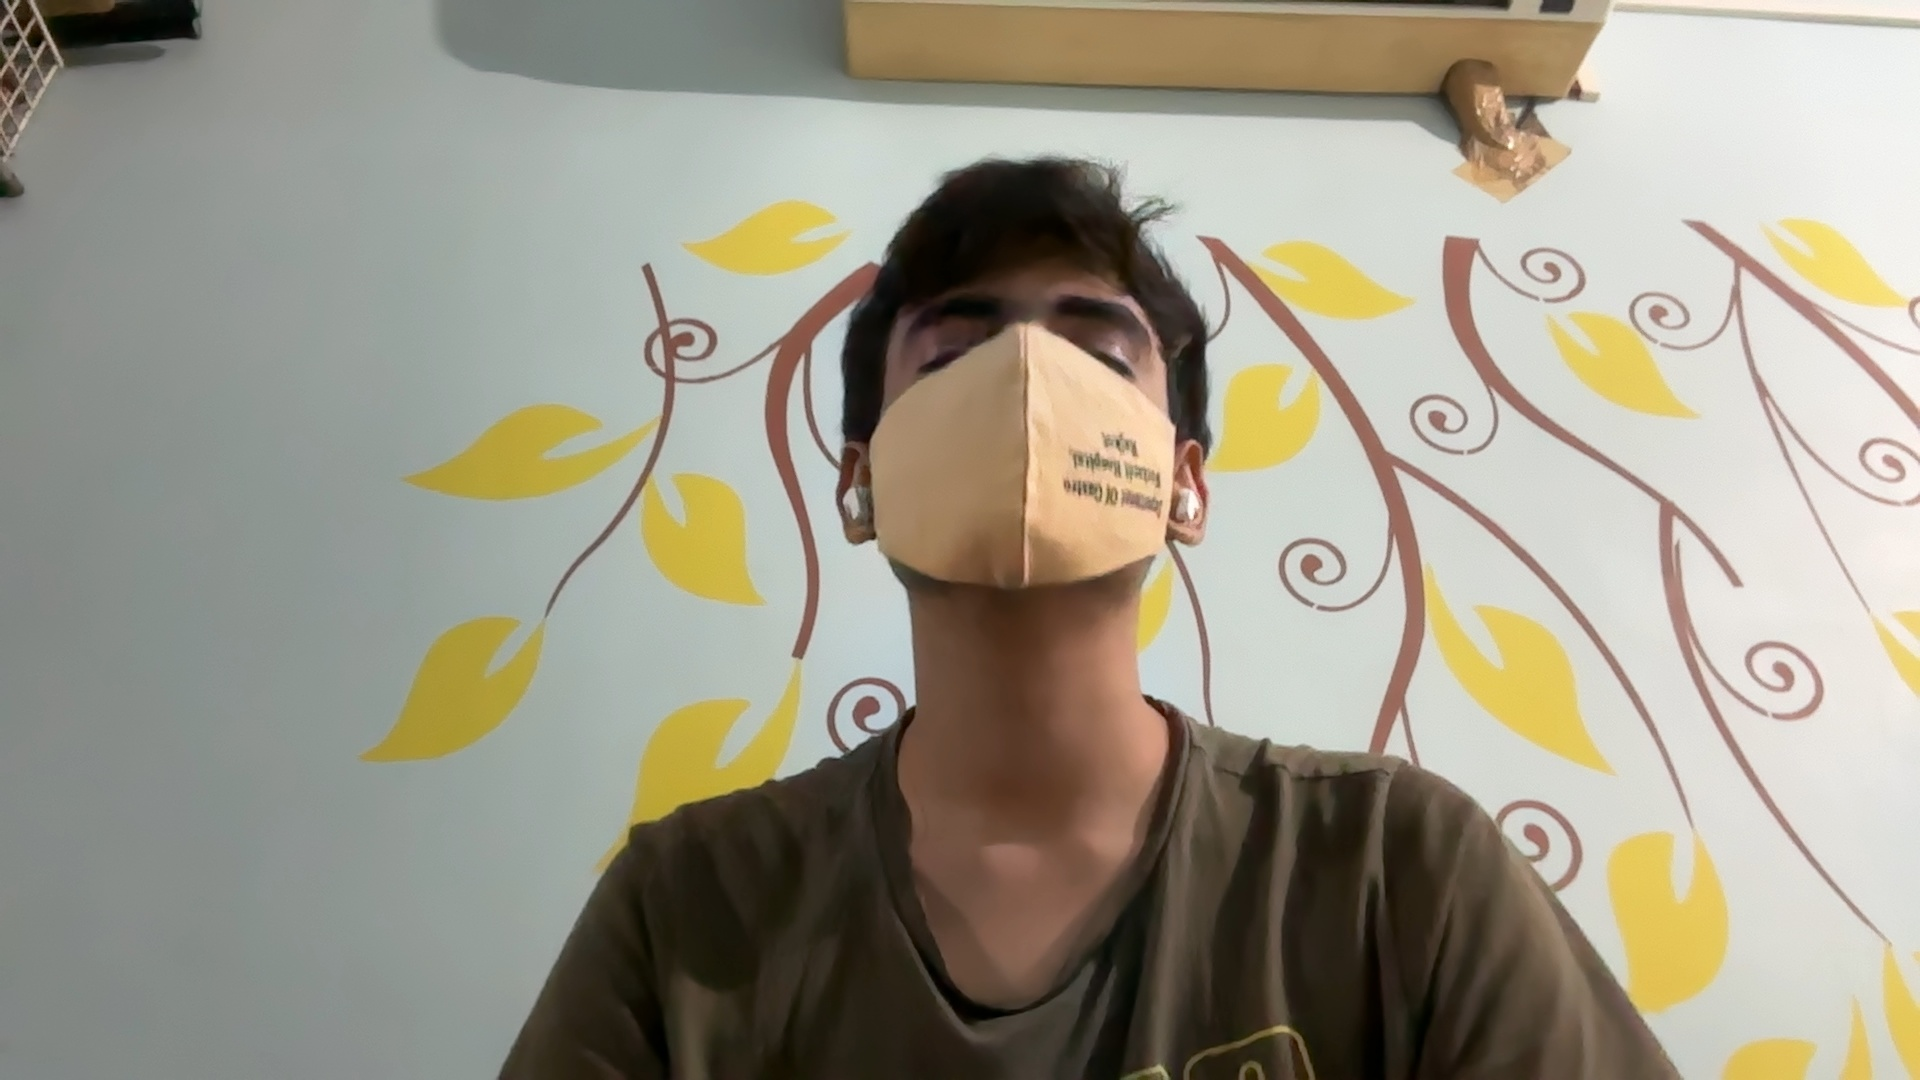Mask: (868, 352, 1153, 625)
